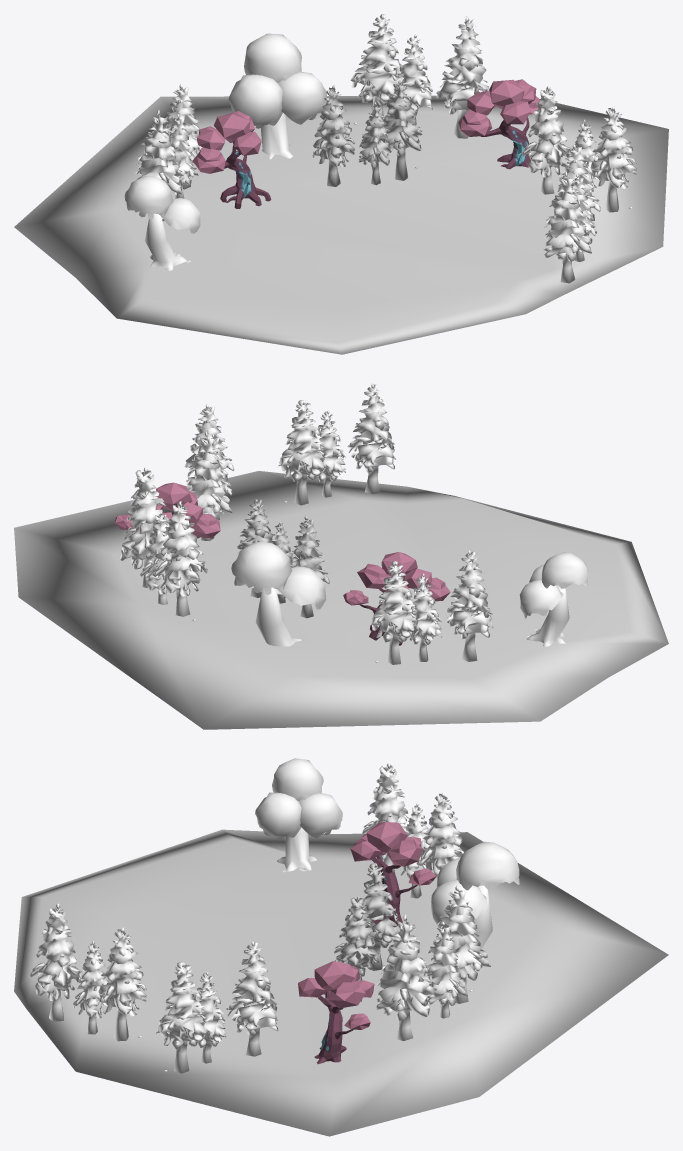
The model's file is land2.glb.
3 renders of one model, top to bottom at view 1: azimuth 30°, elevation 25°; view 2: azimuth 150°, elevation 25°; view 3: azimuth 270°, elevation 25°, orthographic. The views are drawn at different scales.
Parts seen in each view (by area): view 1: world, world.004, world.001, world.005, world.006, world.003, tripo_node_192f9043-89a0-4f53-9bbc-c07a381ee116.001, tripo_node_192f9043-89a0-4f53-9bbc-c07a381ee116, world.007; view 2: world, world.003, world.006, world.004, world.001, world.007, world.005, tripo_node_192f9043-89a0-4f53-9bbc-c07a381ee116, tripo_node_192f9043-89a0-4f53-9bbc-c07a381ee116.001; view 3: world, world.004, world.006, world.005, world.007, world.003, world.001, tripo_node_192f9043-89a0-4f53-9bbc-c07a381ee116.001, tripo_node_192f9043-89a0-4f53-9bbc-c07a381ee116.
Part boxes in pixels (<box>): world: <box>14,80,668,354</box>; world.004: <box>350,14,489,138</box>; world.001: <box>228,33,326,159</box>; world.005: <box>521,86,636,212</box>; world.006: <box>543,144,600,283</box>; world.003: <box>135,84,202,220</box>; tripo_node_192f9043-89a0-4f53-9bbc-c07a381ee116.001: <box>459,79,539,169</box>; tripo_node_192f9043-89a0-4f53-9bbc-c07a381ee116: <box>192,111,271,208</box>; world.007: <box>124,176,200,270</box>; world: <box>14,471,668,729</box>; world.003: <box>370,550,493,664</box>; world.006: <box>278,383,395,505</box>; world.004: <box>120,467,207,621</box>; world.001: <box>231,541,326,646</box>; world.007: <box>519,552,587,646</box>; world.005: <box>184,404,234,541</box>; tripo_node_192f9043-89a0-4f53-9bbc-c07a381ee116: <box>343,552,450,645</box>; tripo_node_192f9043-89a0-4f53-9bbc-c07a381ee116.001: <box>115,482,220,538</box>; world: <box>14,829,668,1136</box>; world.004: <box>375,885,490,1040</box>; world.006: <box>30,903,146,1041</box>; world.005: <box>156,941,278,1073</box>; world.007: <box>255,758,342,872</box>; world.003: <box>362,763,464,898</box>; world.001: <box>431,841,519,949</box>; tripo_node_192f9043-89a0-4f53-9bbc-c07a381ee116.001: <box>298,961,374,1064</box>; tripo_node_192f9043-89a0-4f53-9bbc-c07a381ee116: <box>350,822,436,927</box>.
Size of the model in its own units: 7.14 by 1.77 by 6.31.
Materials: 9 (2 with a texture image).
